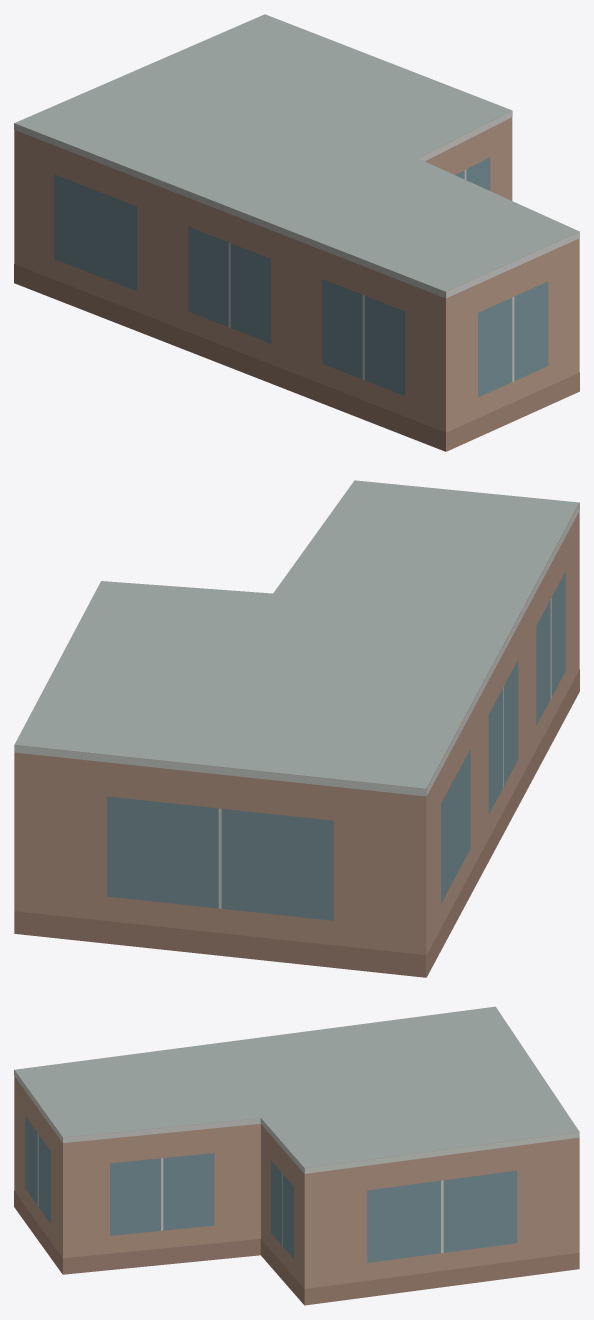
The model's file is survey-upis-32607022.glb.
The picture shows the model from 3 angles, top to bottom: view 1: azimuth 30°, elevation 25°; view 2: azimuth 150°, elevation 25°; view 3: azimuth 270°, elevation 25°; orthographic projection. The views are drawn at different scales.
Parts seen in each view (by area): view 1: survey-upis-32607022.tmp; view 2: survey-upis-32607022.tmp; view 3: survey-upis-32607022.tmp.
Boxes of the visible parts, x1,y1,x2,y2 form: survey-upis-32607022.tmp: [14, 14, 579, 451]; survey-upis-32607022.tmp: [14, 480, 579, 977]; survey-upis-32607022.tmp: [14, 1006, 579, 1305].
Size of the model in its own units: 7.73 by 3.05 by 11.41.
